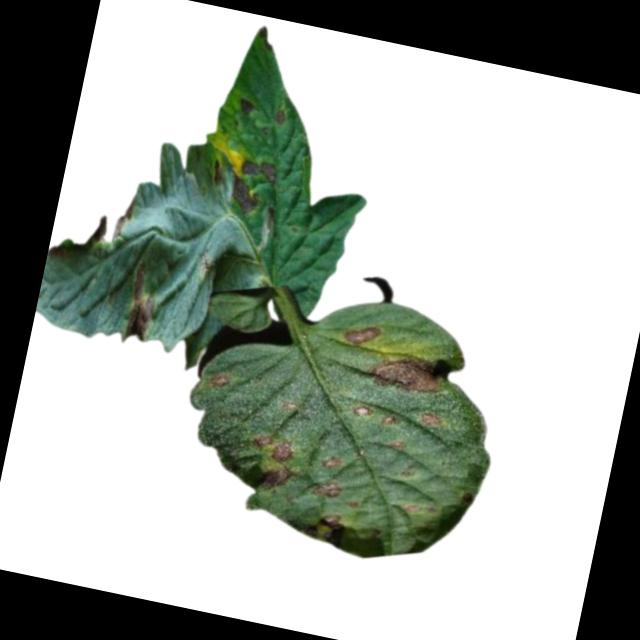Early_blight: (116, 254, 171, 345), (365, 353, 451, 402), (250, 428, 306, 466), (109, 187, 141, 249), (254, 458, 296, 496), (238, 154, 285, 185), (338, 319, 381, 351), (225, 175, 258, 215), (312, 473, 343, 504), (419, 408, 448, 429), (352, 399, 376, 423), (322, 451, 346, 473), (377, 409, 400, 430), (321, 508, 344, 529), (237, 95, 259, 116), (211, 370, 231, 389), (274, 105, 291, 126)
